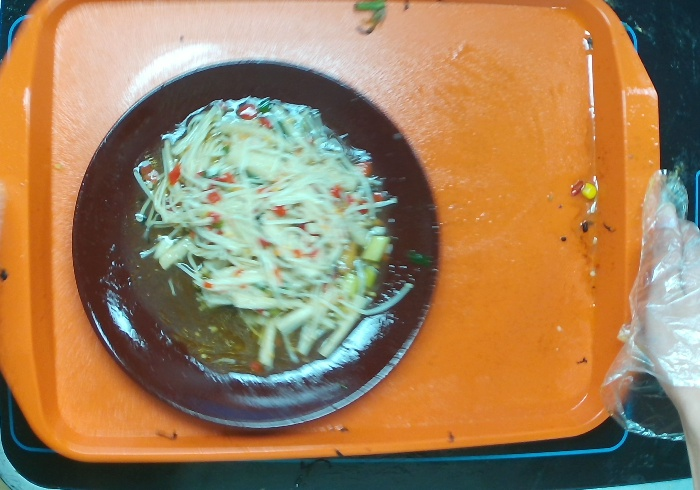HZYJPL-Ka_Fei_Yuan_Pan: (70, 58, 442, 429)
